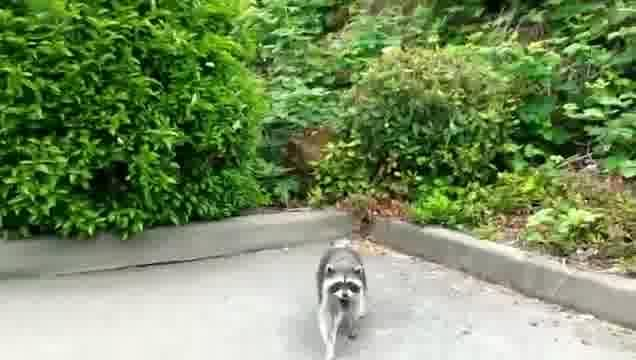raccoon: (313, 244, 370, 360)
